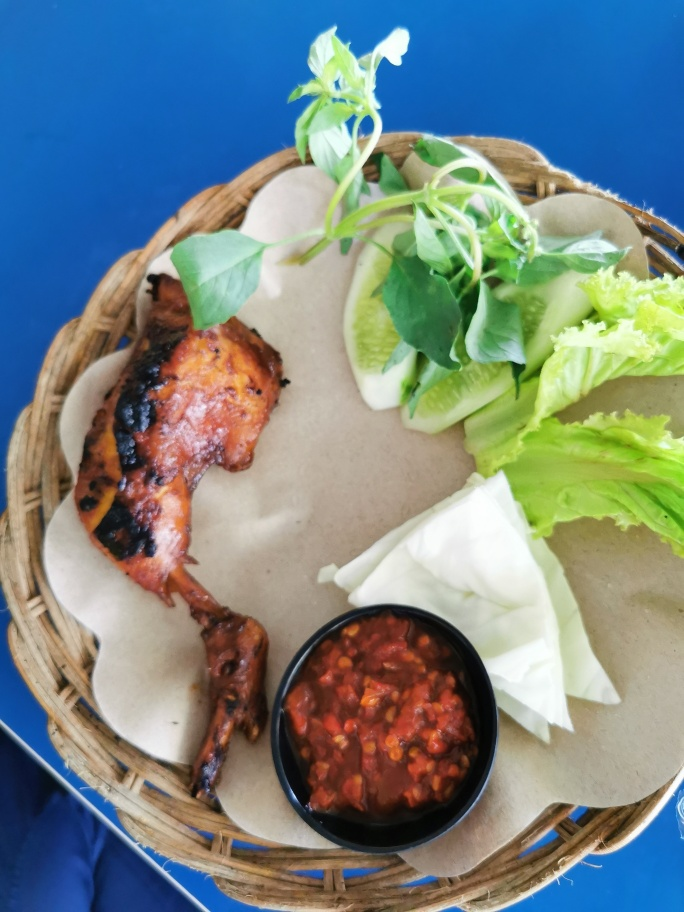ayam bakar: (61, 262, 302, 817)
